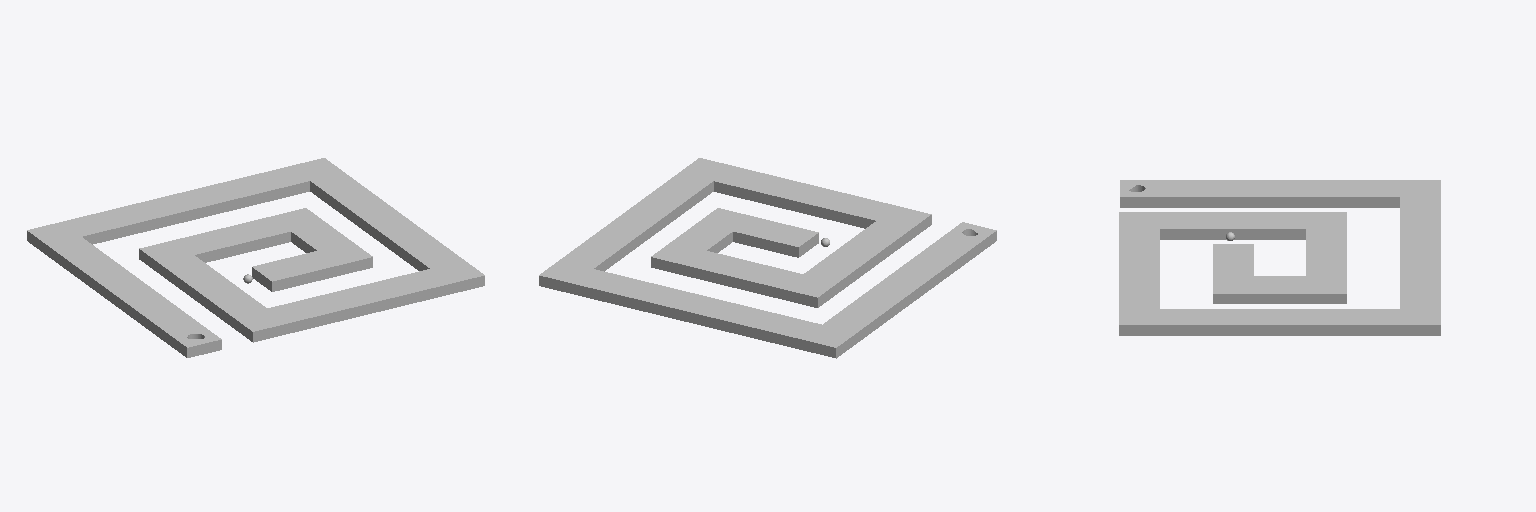
The model's file is spirale.obj.
The picture shows the model from 3 angles: view 1: azimuth 30°, elevation 25°; view 2: azimuth 150°, elevation 25°; view 3: azimuth 270°, elevation 25°; orthographic projection.
Visible parts, largest first — view 1: Cube; view 2: Cube; view 3: Cube.
Boxes of the visible parts, x1=… form: Cube: x1=27, y1=158, x2=484, y2=357; Cube: x1=539, y1=158, x2=996, y2=358; Cube: x1=1119, y1=180, x2=1440, y2=335.
Size of the model in its own units: 5.88 by 0.28 by 5.5.